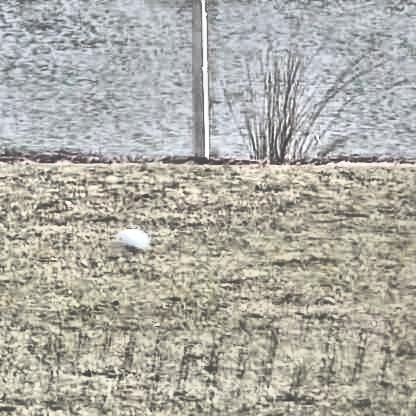golfball: (111, 222, 147, 256)
